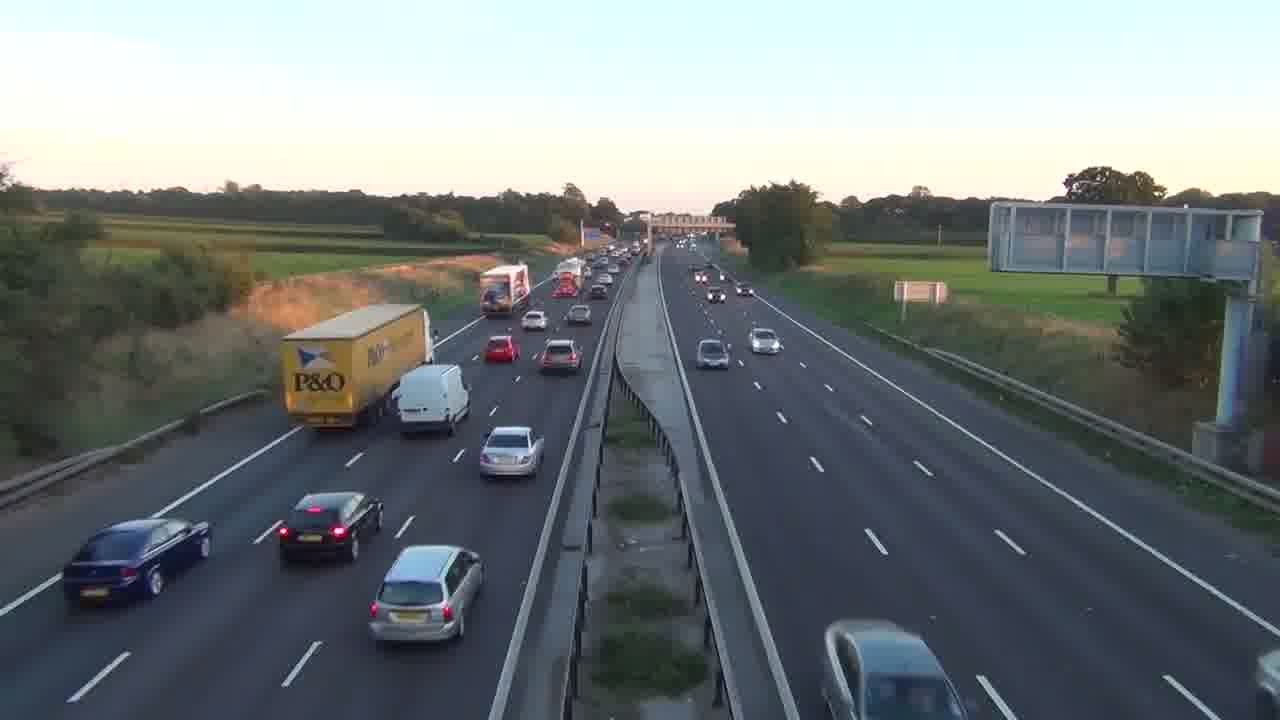car: (820, 617, 971, 719), (62, 516, 212, 608), (367, 544, 485, 647), (275, 491, 385, 565), (479, 425, 546, 480), (533, 337, 582, 374), (696, 338, 730, 371), (483, 334, 519, 363), (749, 327, 784, 356), (564, 304, 592, 326), (522, 309, 547, 331)
truck: (279, 302, 432, 431), (395, 363, 471, 437)
